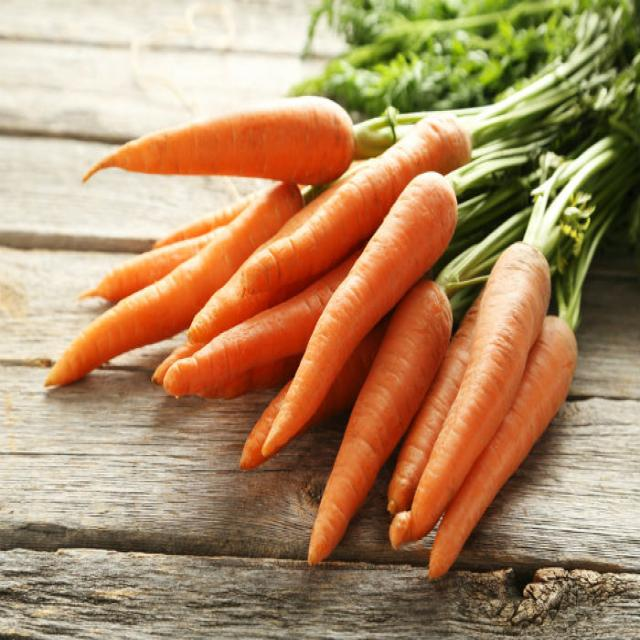carrot: (229, 163, 460, 490), (396, 241, 552, 547), (300, 269, 454, 577), (430, 311, 580, 577), (90, 103, 353, 184)
